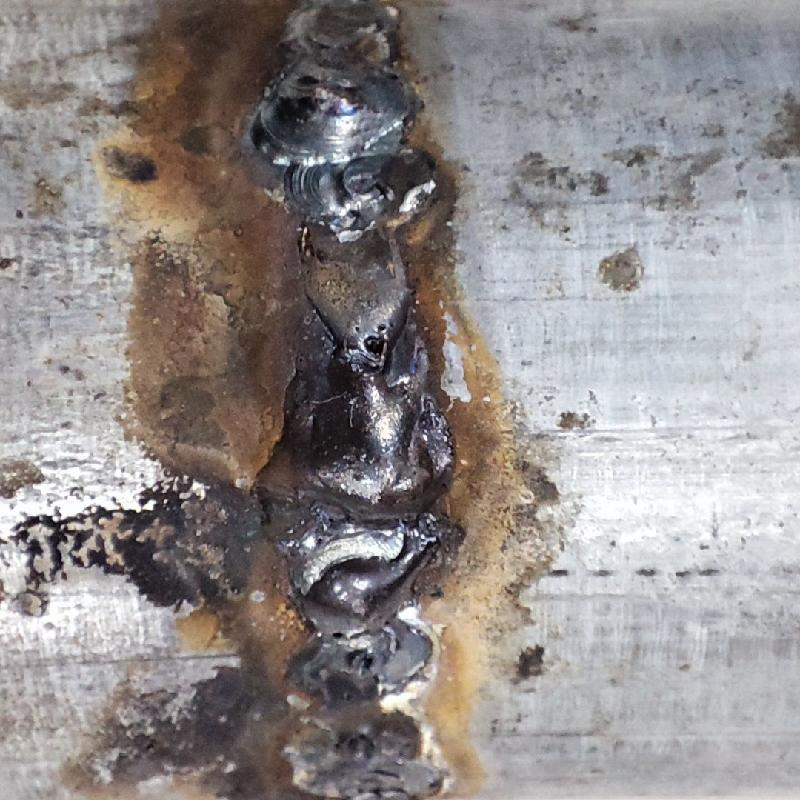Not_fully_soldered: (274, 636, 443, 797), (289, 220, 423, 374)
Surface_pores: (345, 310, 399, 365)
Weld: (277, 376, 438, 633)
wrong_size: (271, 3, 413, 234)
